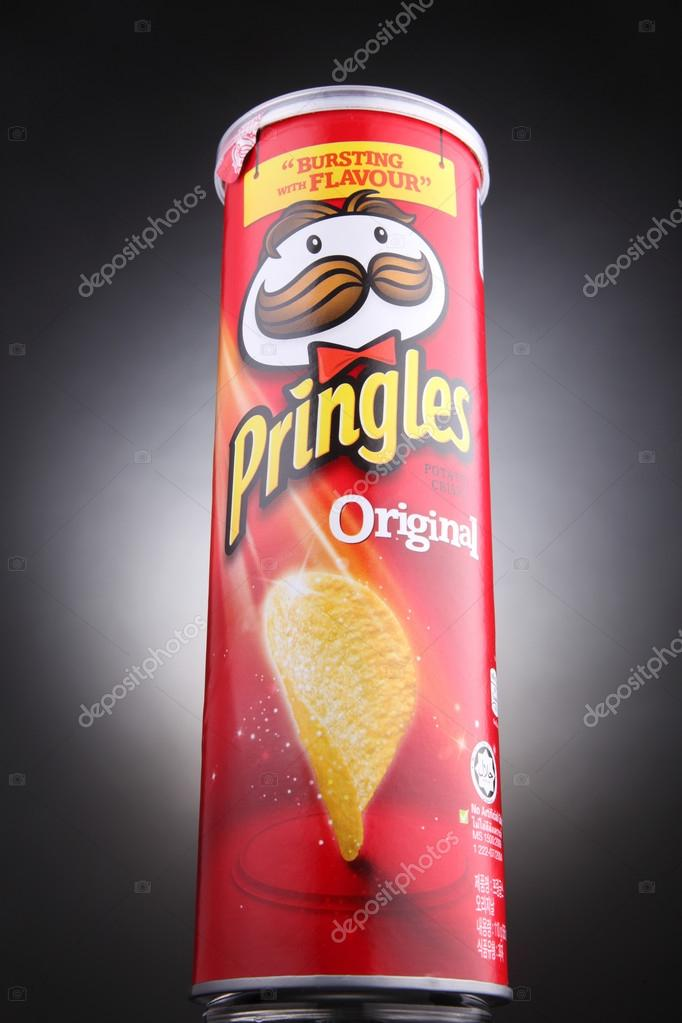pringle: (161, 84, 531, 1010)
